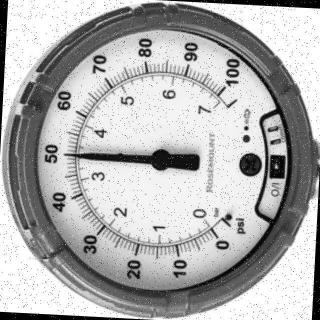gauge: (0, 0, 320, 320), (188, 198, 256, 246), (202, 86, 258, 116), (147, 145, 173, 175), (60, 149, 82, 161)
